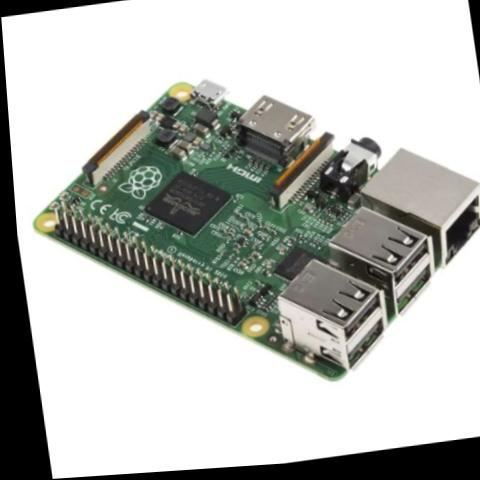Raspberry-Pi-2-Model-B: (4, 39, 480, 430)
